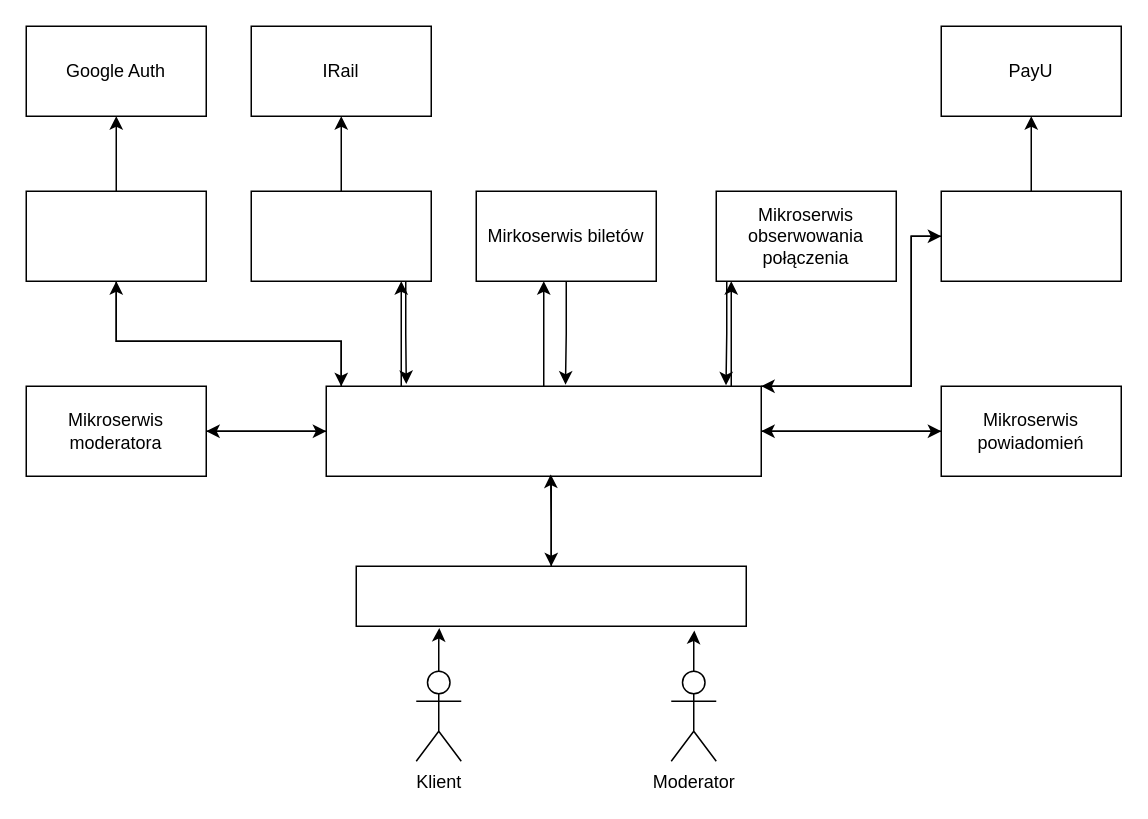
Some shapes in this 1148 by 819 pixel diagram are drawn without their labels. The shapes that lost their labels are listed below. From the top down, each one's centre as x and y in pixels, then its label:
point 115,235: Mikroserwis użytkownika
point 340,235: Mikroserwis planowania podróży
point 1030,235: Mikroserwis płatności
point 543,430: Event Bus
point 550,595: API Gateway
